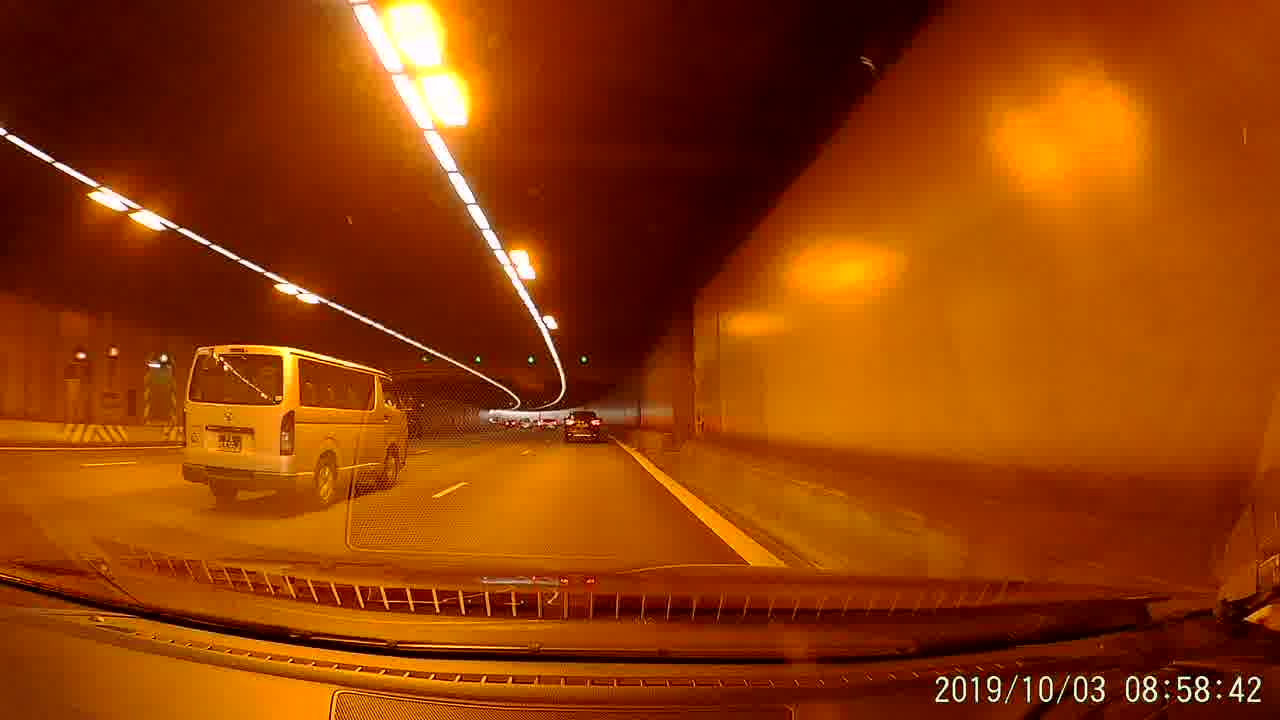car: (563, 409, 603, 447), (540, 417, 556, 432), (519, 418, 534, 430)
